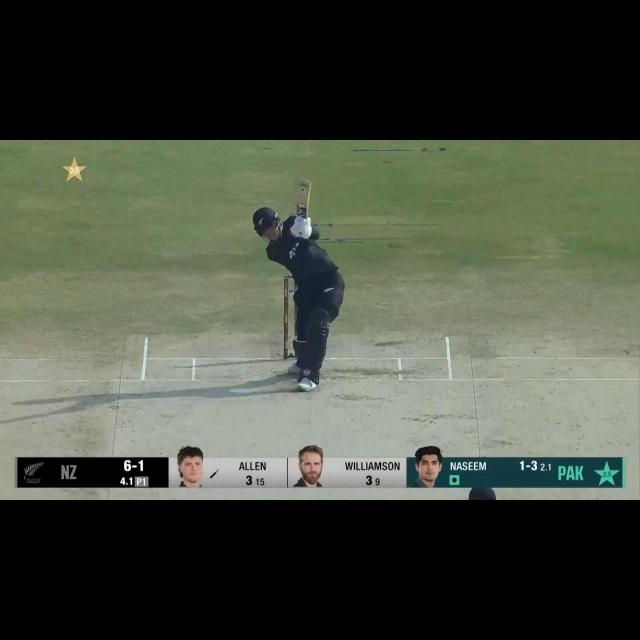bat: (292, 178, 313, 221)
toe: (297, 178, 314, 192)
